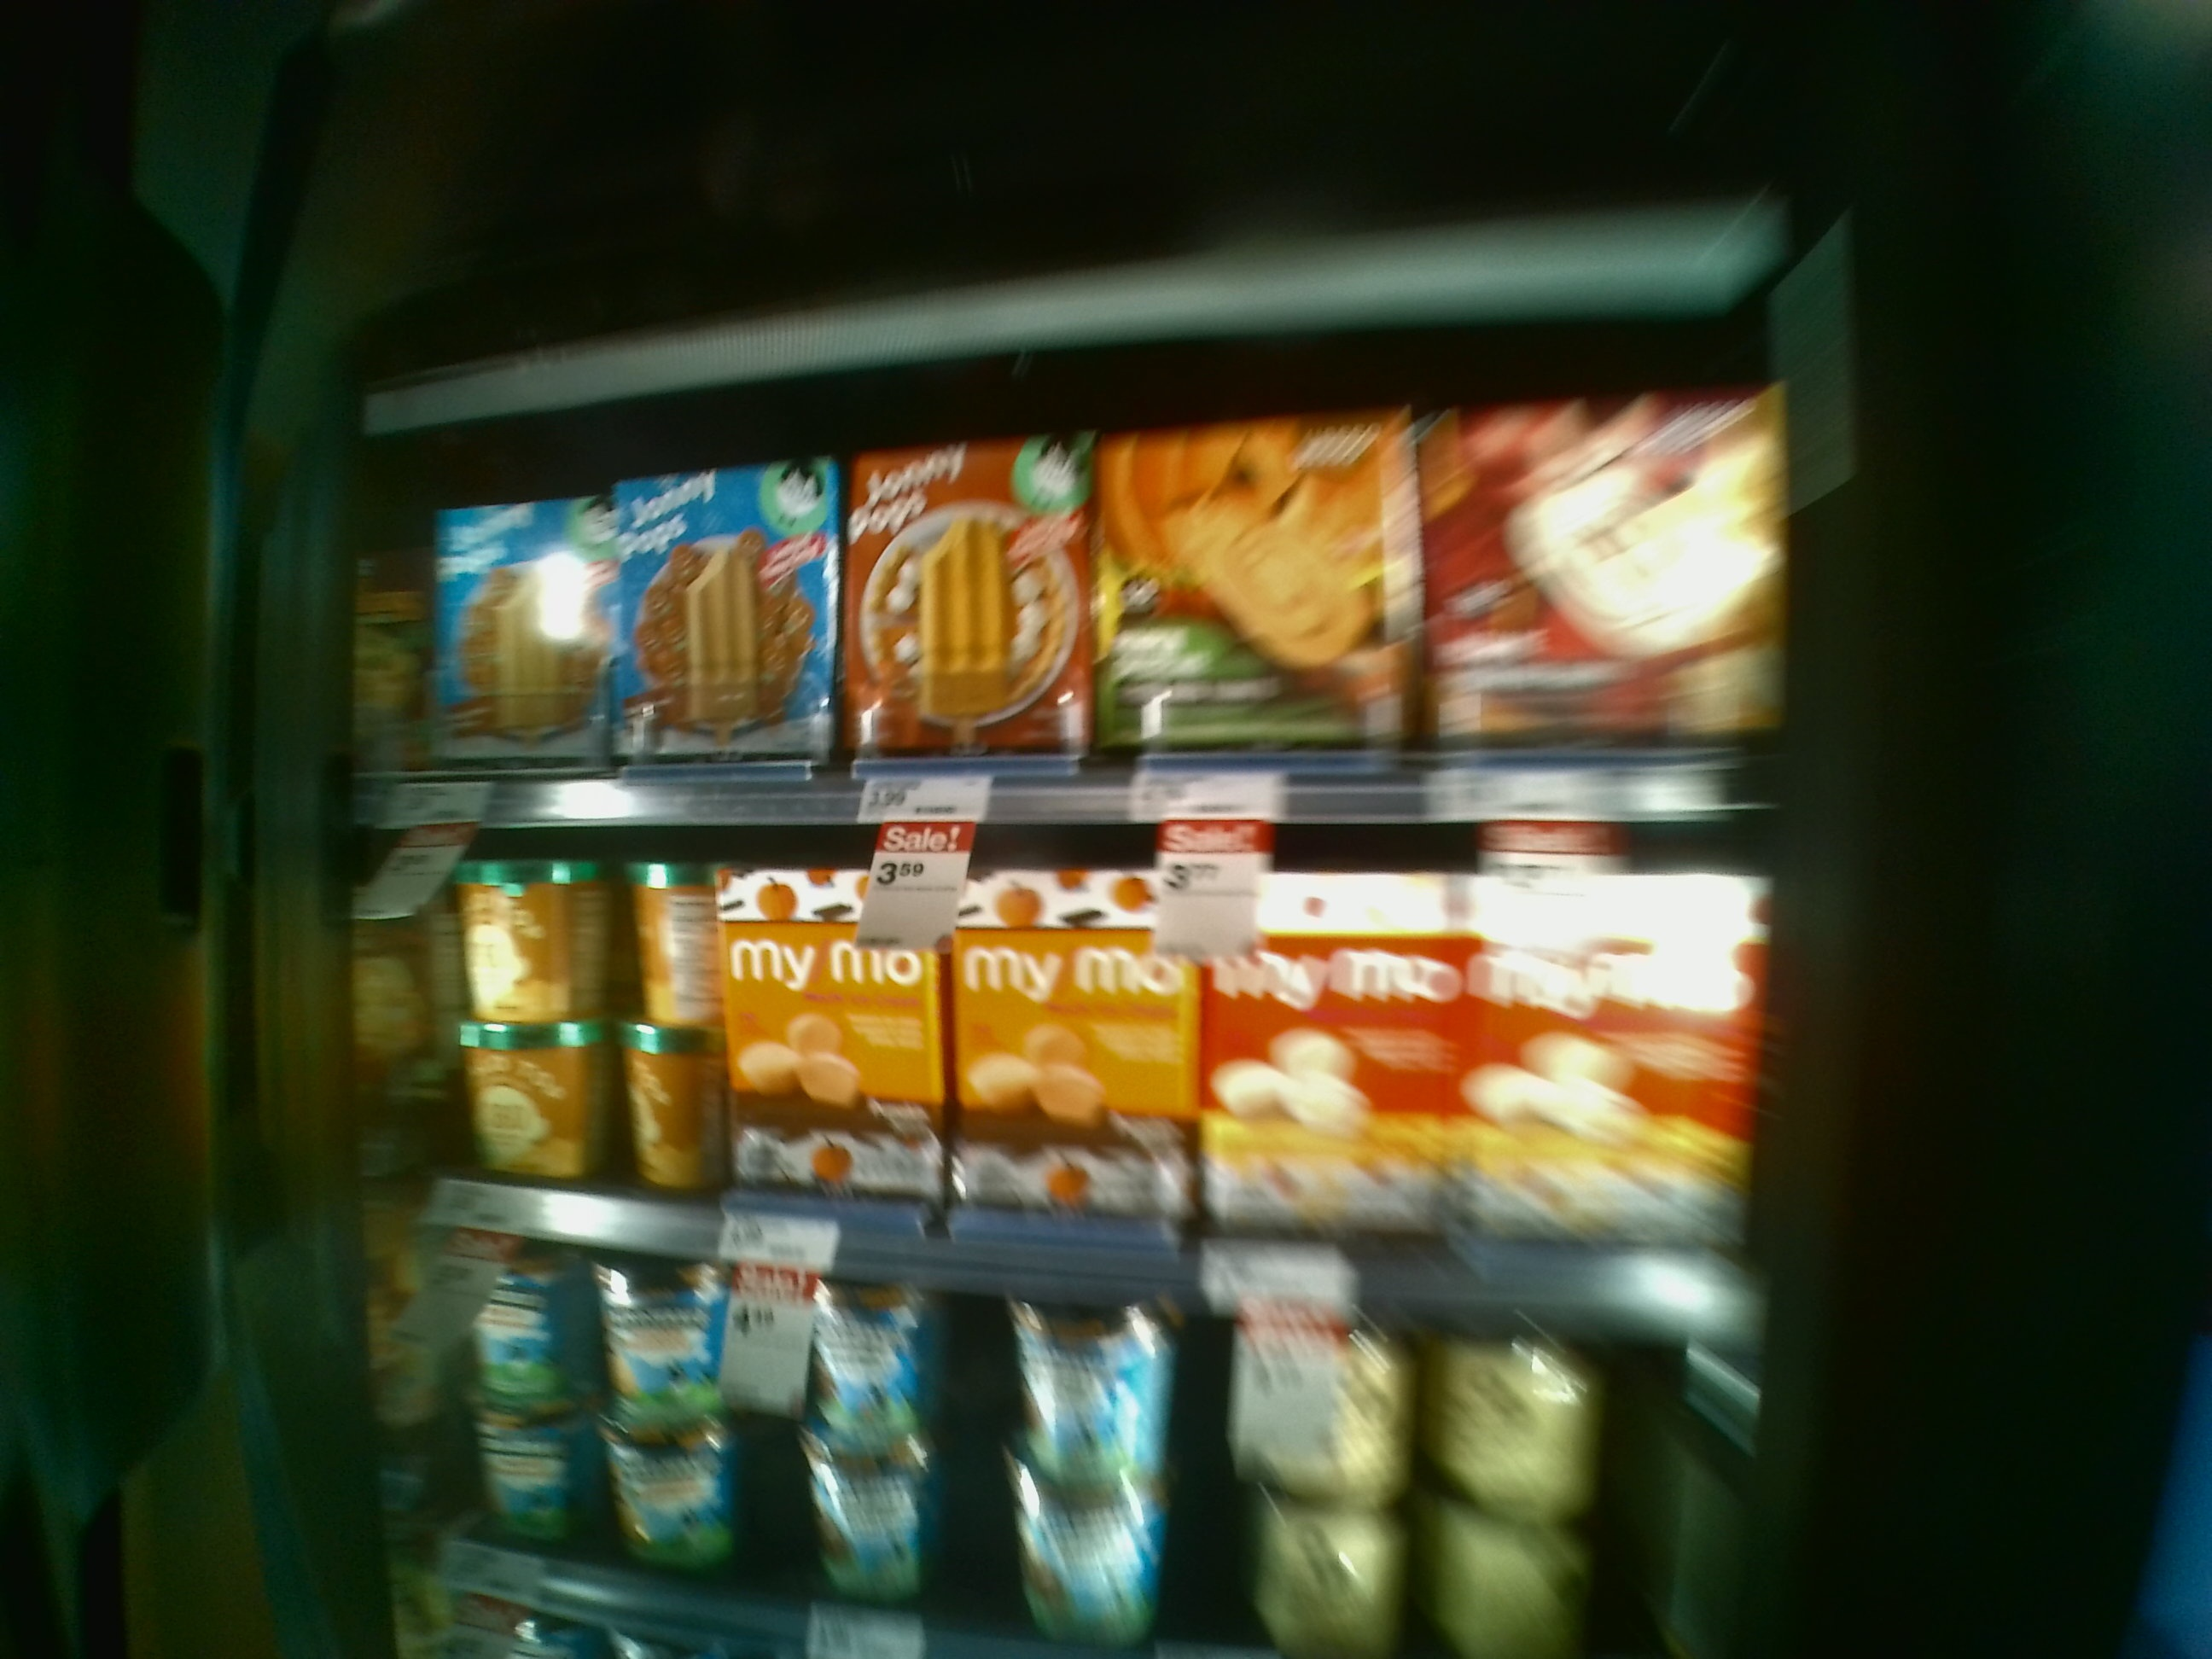shelf: (307, 816, 1785, 1347), (324, 390, 1806, 816)
